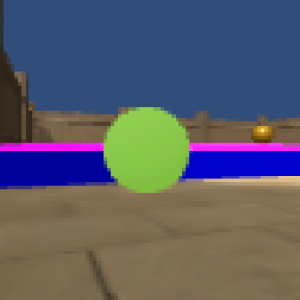goodGoal: (103, 105, 193, 195)
goodGoalMulti: (250, 124, 275, 143)
platform: (1, 150, 102, 186), (191, 153, 300, 179)
ramp: (1, 142, 103, 151), (190, 143, 300, 151)
